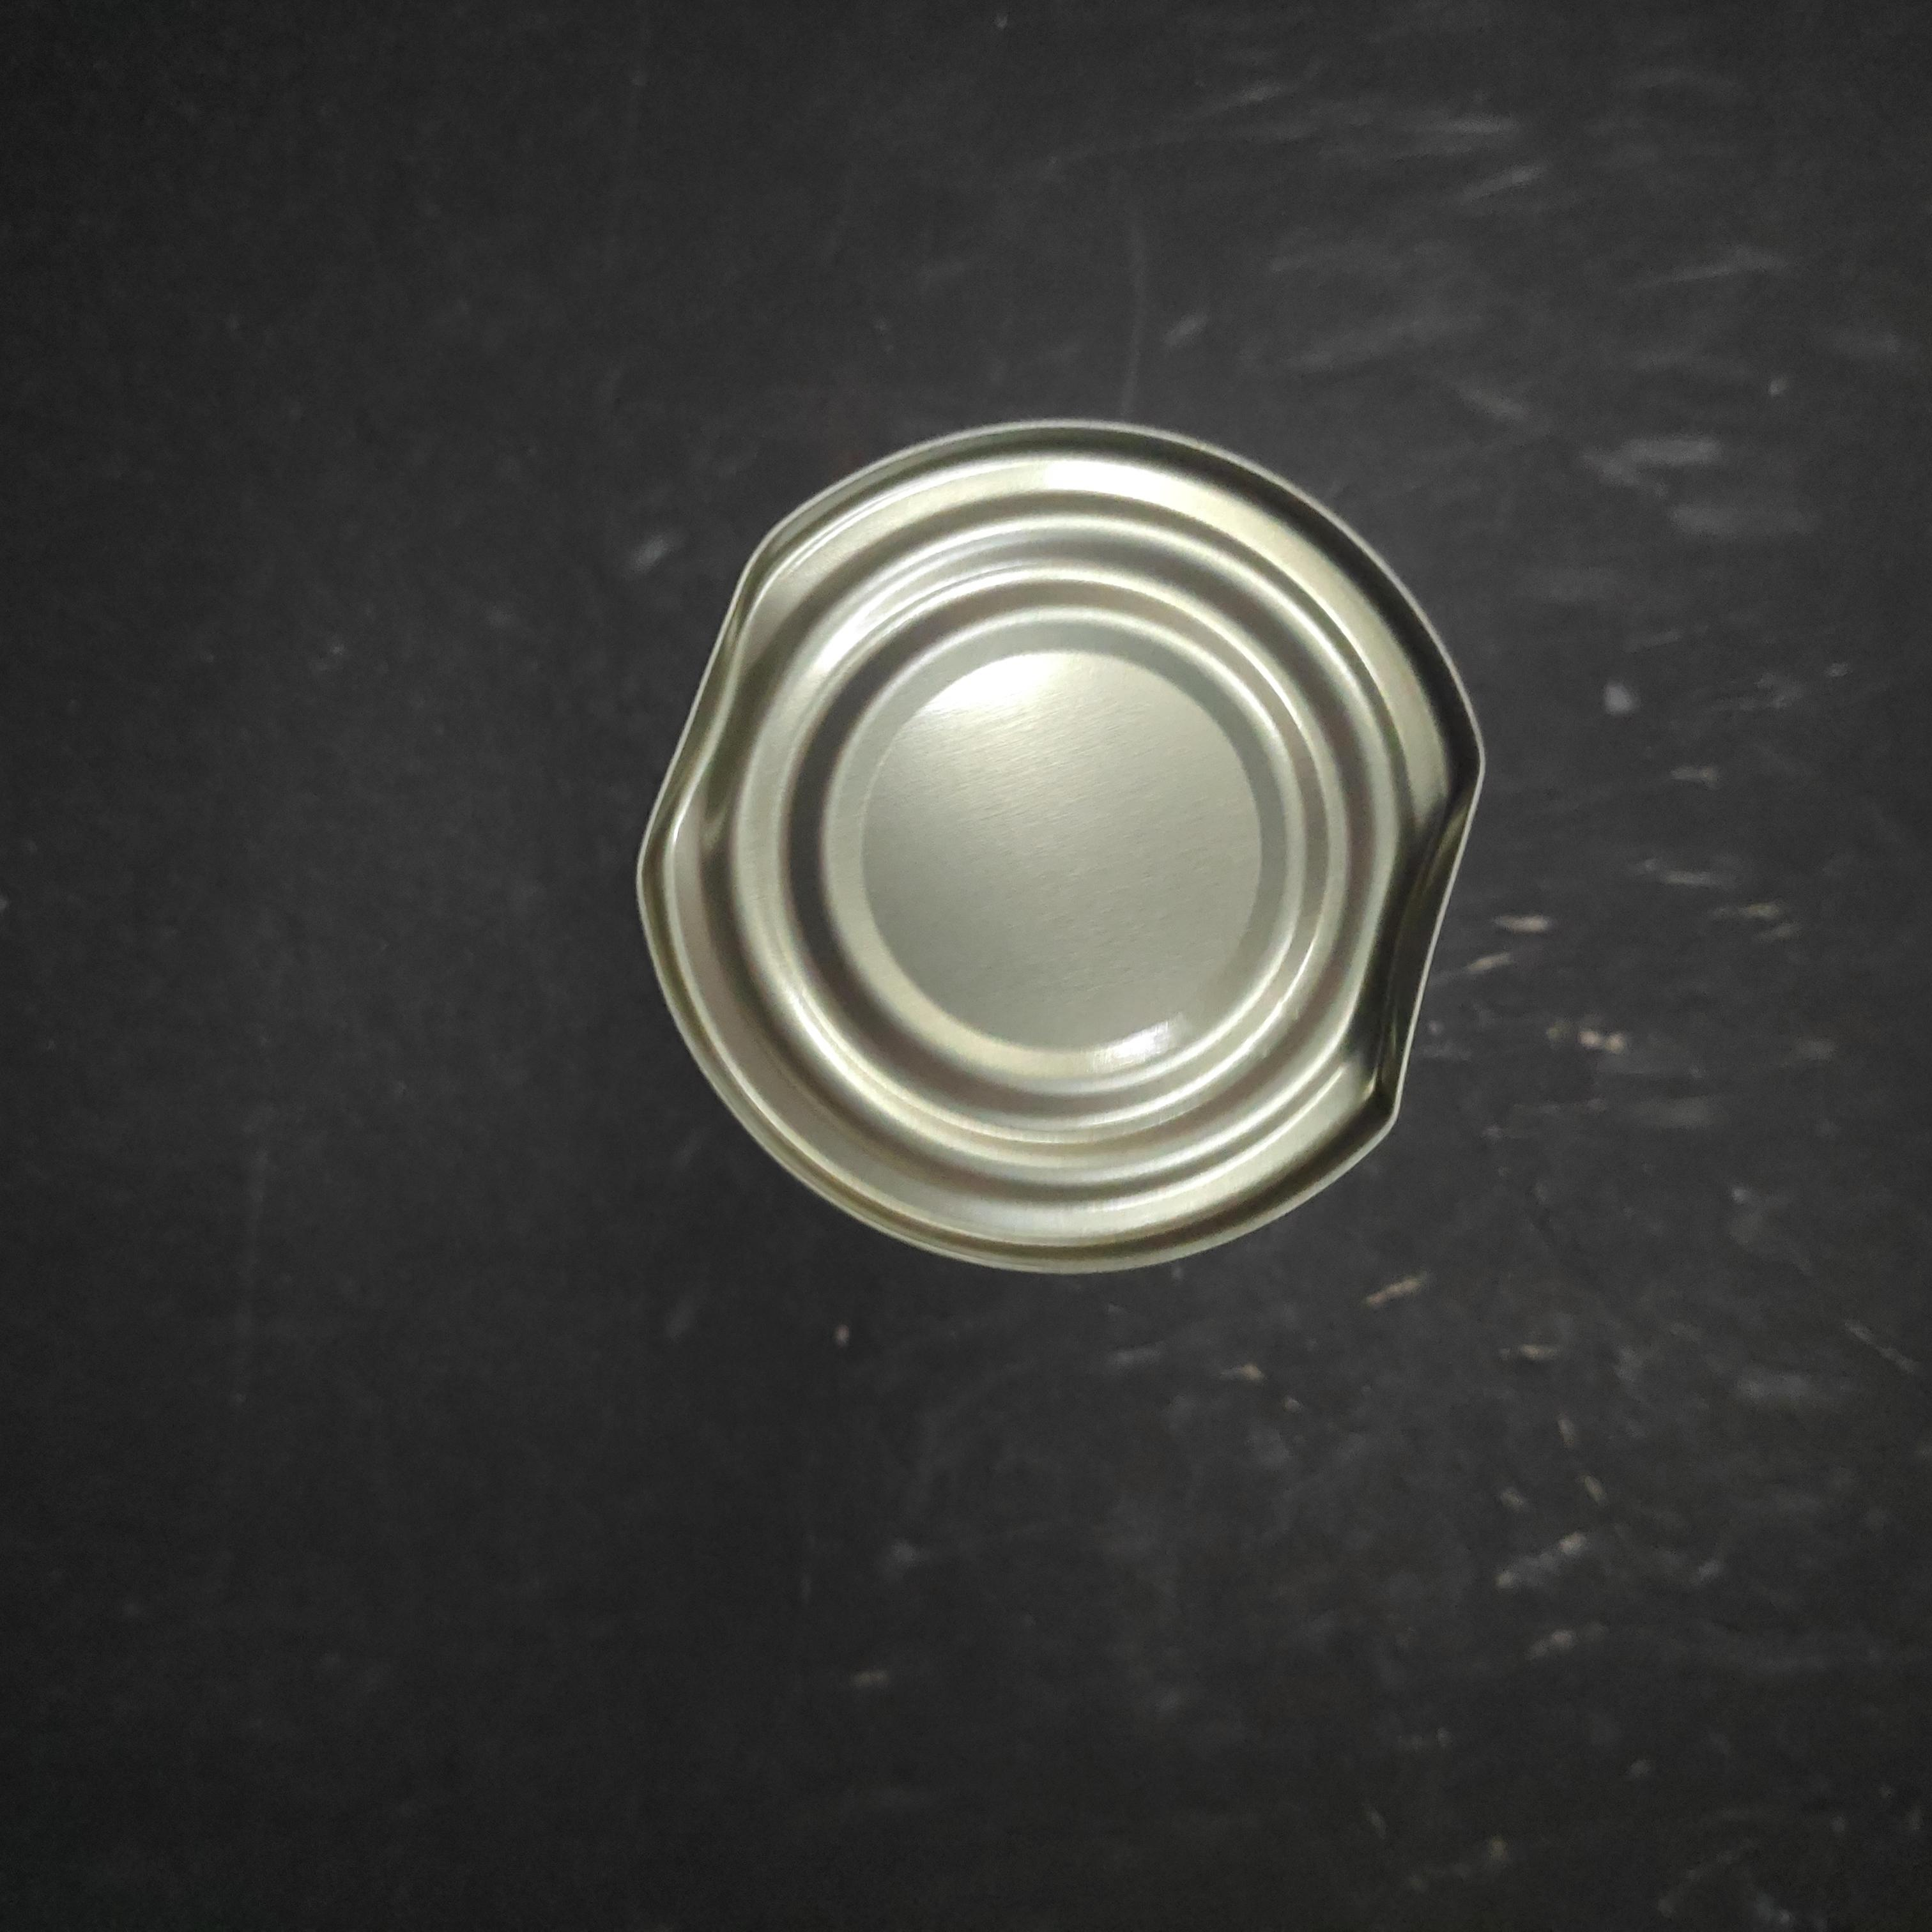Minor Defect: (414, 642, 1315, 1541)
